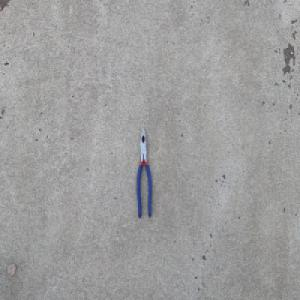Pliers: (136, 126, 152, 220)
